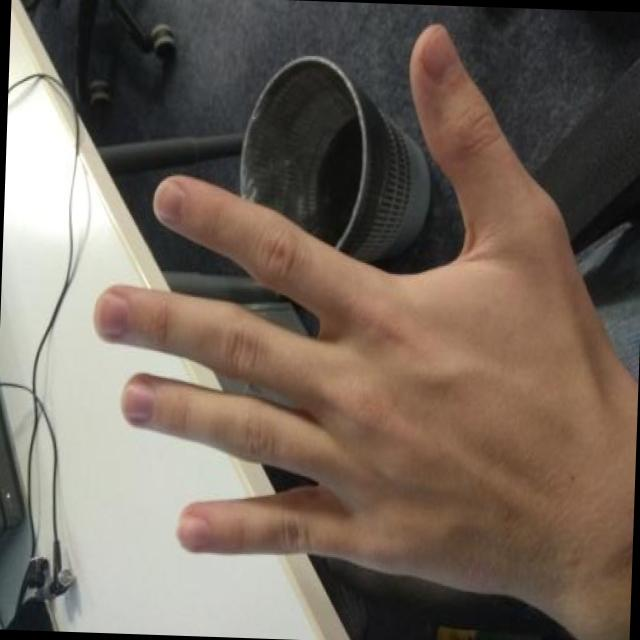Nail: (423, 24, 460, 83), (121, 376, 155, 420), (95, 291, 128, 333), (153, 179, 185, 222), (176, 511, 210, 548)
